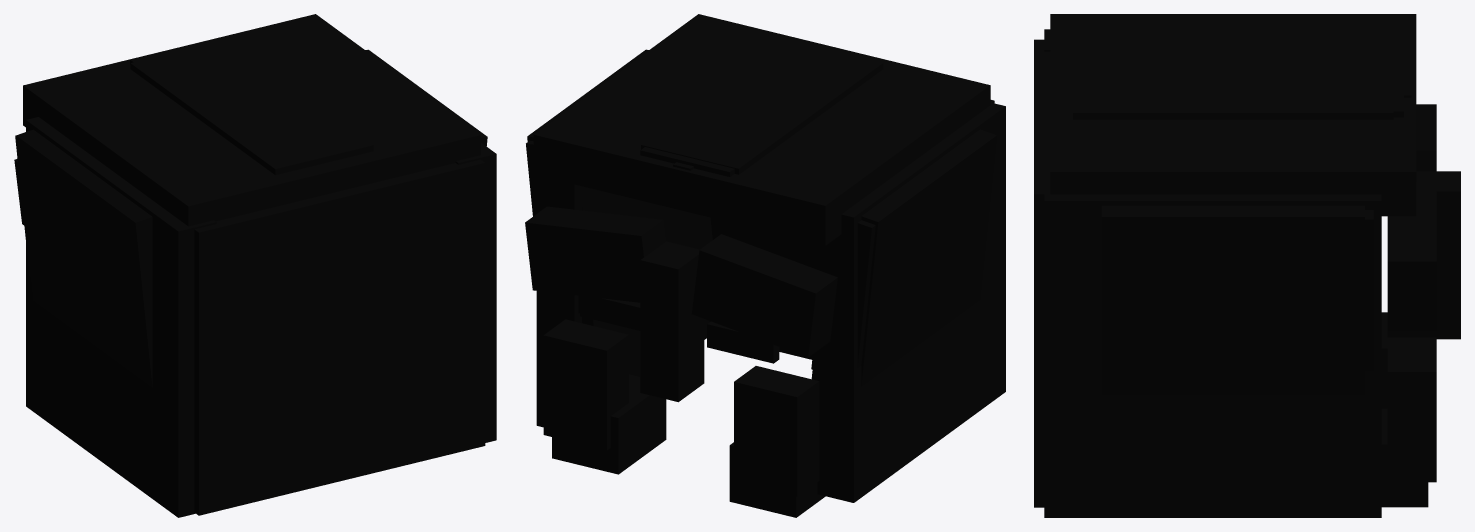
File: brood_heavy_helmet.obj
3 views of the same model, side by side, from view 1: azimuth 30°, elevation 25°; view 2: azimuth 150°, elevation 25°; view 3: azimuth 270°, elevation 25° (orthographic). The views are drawn at different scales.
Bounding box in the file's own units: 0.875 × 0.7614 × 0.8302.
